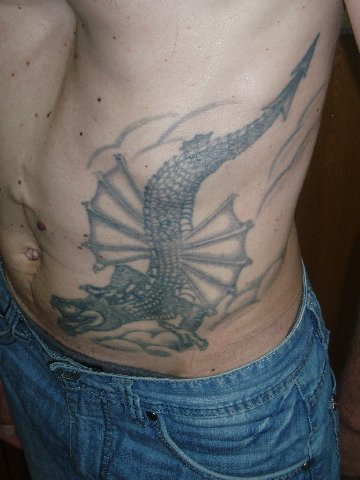tatu6_drakon: (48, 14, 333, 378)
